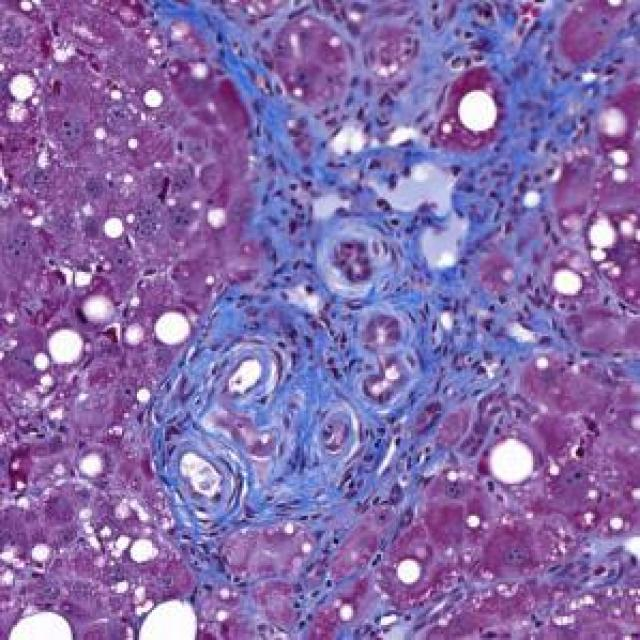fibrosis: (242, 86, 550, 338), (169, 304, 490, 505)
